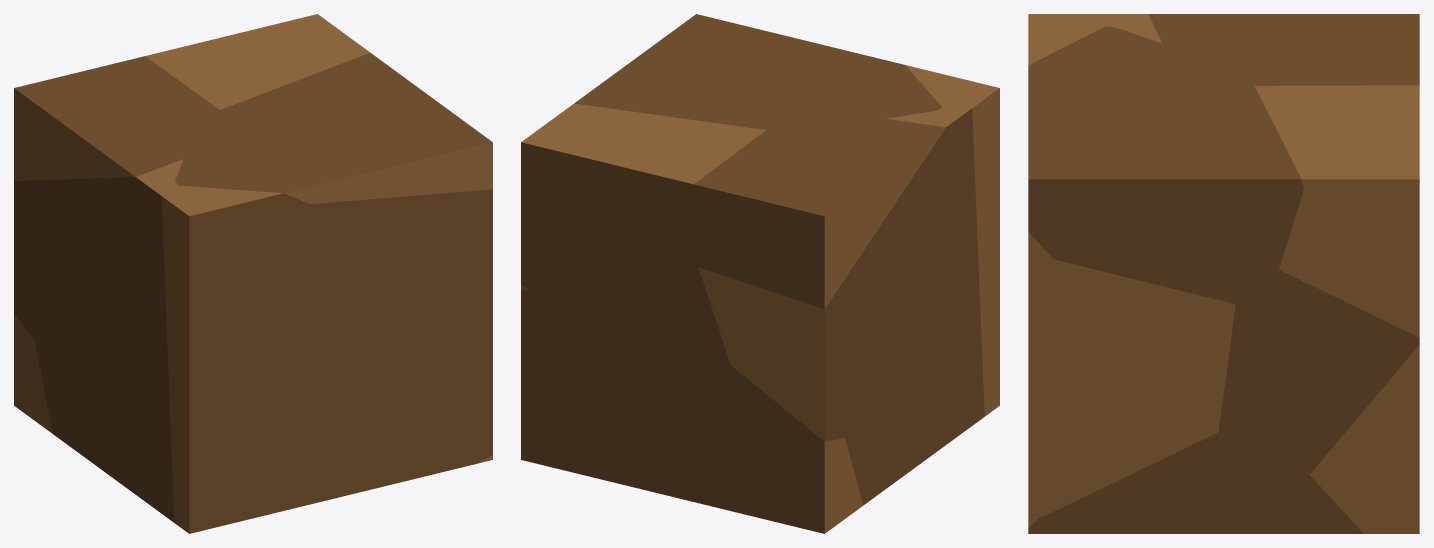
Rendered from crate_shatter.glb.
The picture shows the model from 3 angles, left to right: view 1: azimuth 30°, elevation 25°; view 2: azimuth 150°, elevation 25°; view 3: azimuth 270°, elevation 25°; orthographic projection. The views are drawn at different scales.
Parts seen in each view (by area): view 1: piece_08, piece_13, piece_12, piece_01, piece_05, piece_04, piece_09, piece_10; view 2: piece_05, piece_01, piece_10, piece_12, piece_04, piece_09, piece_06, piece_07, piece_03, piece_08; view 3: piece_12, piece_02, piece_00, piece_11, piece_05, piece_07, piece_09, piece_06, piece_13, piece_08, piece_04.
Part boxes in pixels (x1,y1,x2,y2): piece_08: (161,185,396,533); piece_13: (310,189,492,482); piece_12: (175,53,492,204); piece_01: (34,181,177,522); piece_05: (14,56,219,180); piece_04: (14,159,182,339); piece_09: (145,14,370,109); piece_10: (14,314,52,433); piece_05: (693,119,945,309); piece_01: (845,107,984,505); piece_10: (620,365,863,533); piece_12: (574,14,942,129); piece_04: (698,111,958,441); piece_09: (521,103,765,265); piece_06: (521,289,634,483); piece_07: (521,155,677,317); piece_03: (588,262,730,385); piece_08: (905,65,999,416); piece_12: (1028,26,1304,304); piece_02: (1037,259,1235,519); piece_00: (1218,270,1419,474); piece_11: (1028,432,1363,533); piece_05: (1148,14,1419,85); piece_07: (1279,188,1419,337); piece_09: (1255,85,1419,193); piece_06: (1310,345,1419,533); piece_13: (1028,232,1053,528); piece_08: (1028,14,1104,65); piece_04: (1116,14,1161,42).
Bounding box in the file's own units: 1 × 1 × 1.
